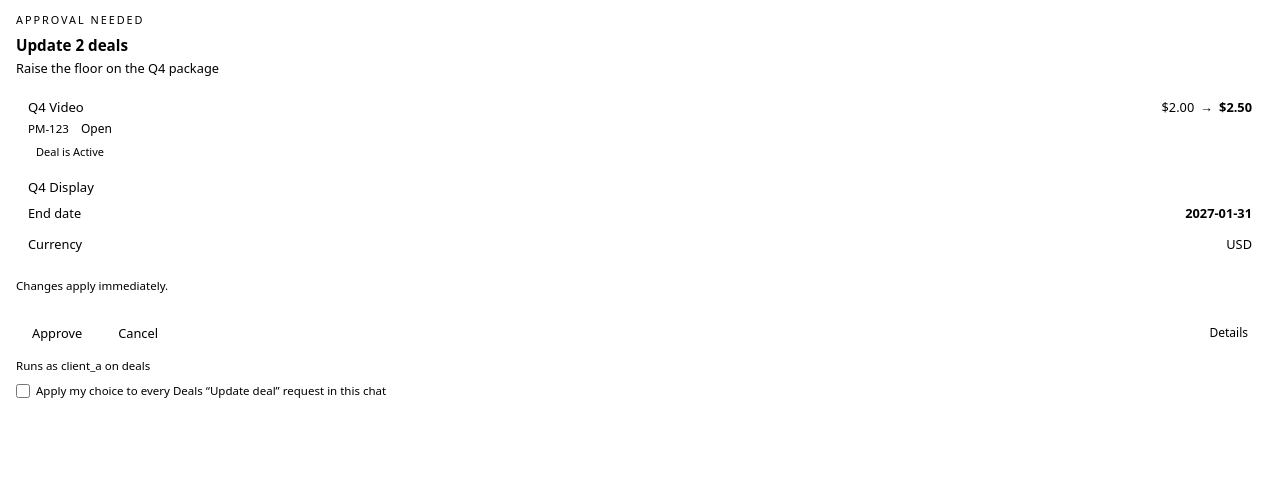
Test case: the readable approval card › renders the pending layout: title, records, before → after, flags; raw args under Details
This screenshot has width=1280, height=493.
Expected: the text with test id "approval-eyebrow" reads "Approval needed", [16,12,144,27]
Expected: the text with test id "generic-action-title" reads "Update 2 deals", [16,35,128,55]
Click the button with test id "approval-card-details-toggle".
click(1237, 333)  # box [1210,324,1264,342]
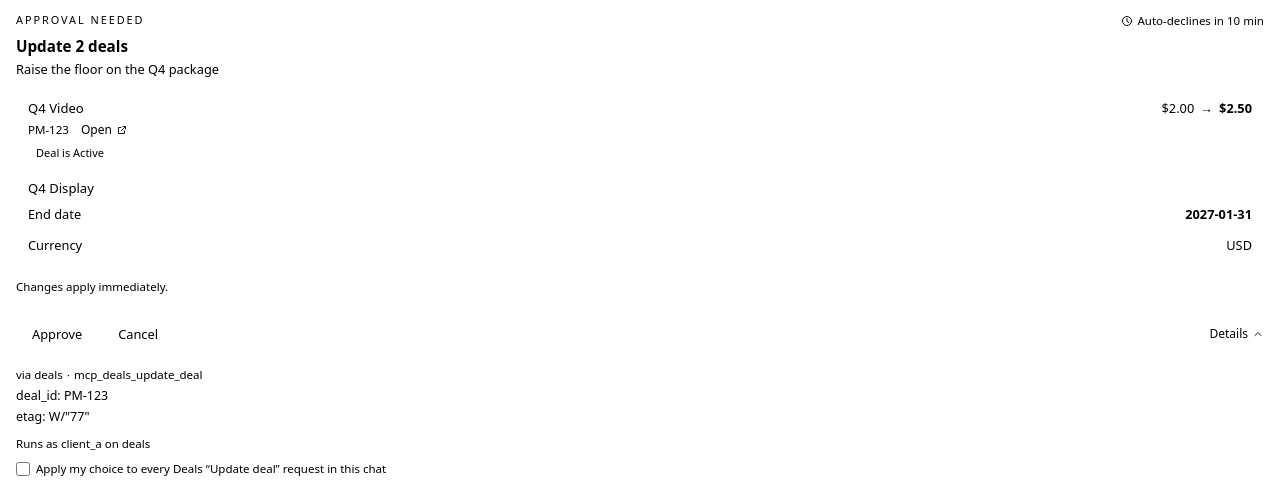
Result: the element with test id "approval-card-details" is shown at [16,367,203,425]
Result: the text "mcp_deals_update_deal" is shown at [74,367,203,382]
Result: the text "etag:" is shown at [16,408,49,425]
